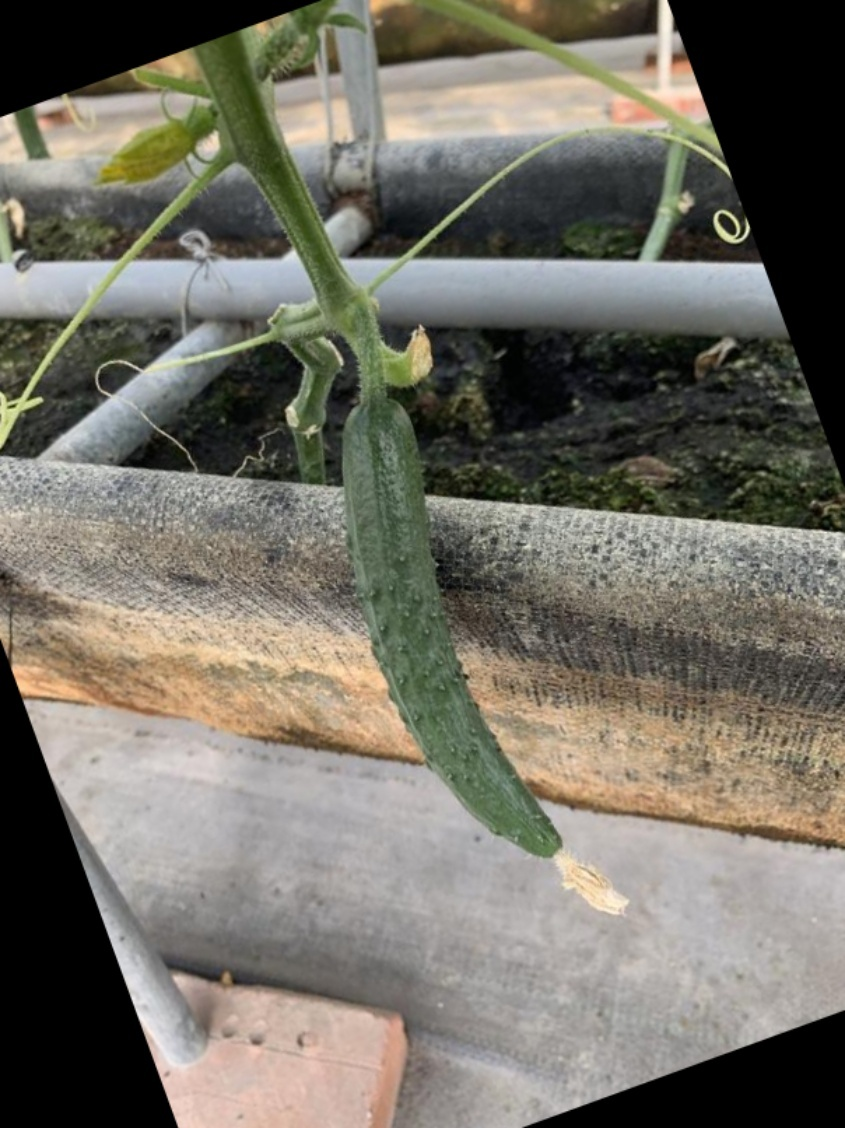mature: (325, 389, 572, 873)
